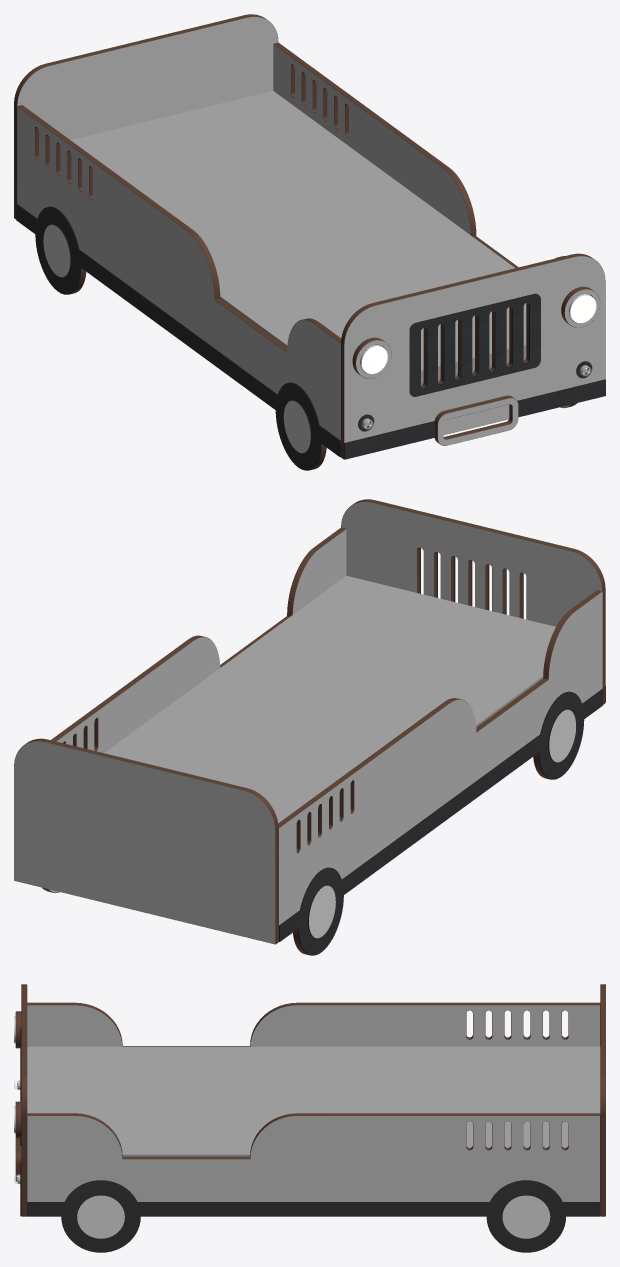
File: BedVersions.glb
The picture shows the model from 3 angles, top to bottom: view 1: azimuth 30°, elevation 25°; view 2: azimuth 150°, elevation 25°; view 3: azimuth 270°, elevation 25°; orthographic projection. The views are drawn at different scales.
Parts seen in each view (by area): view 1: Bed; view 2: Bed; view 3: Bed.
Boxes of the visible parts, bbox=[...] form: Bed: bbox=[14, 14, 605, 470]; Bed: bbox=[14, 499, 605, 955]; Bed: bbox=[14, 984, 605, 1252].
Size of the model in its own units: 0.852 by 0.575 by 1.86.
Materials: 15 (1 with a texture image).
